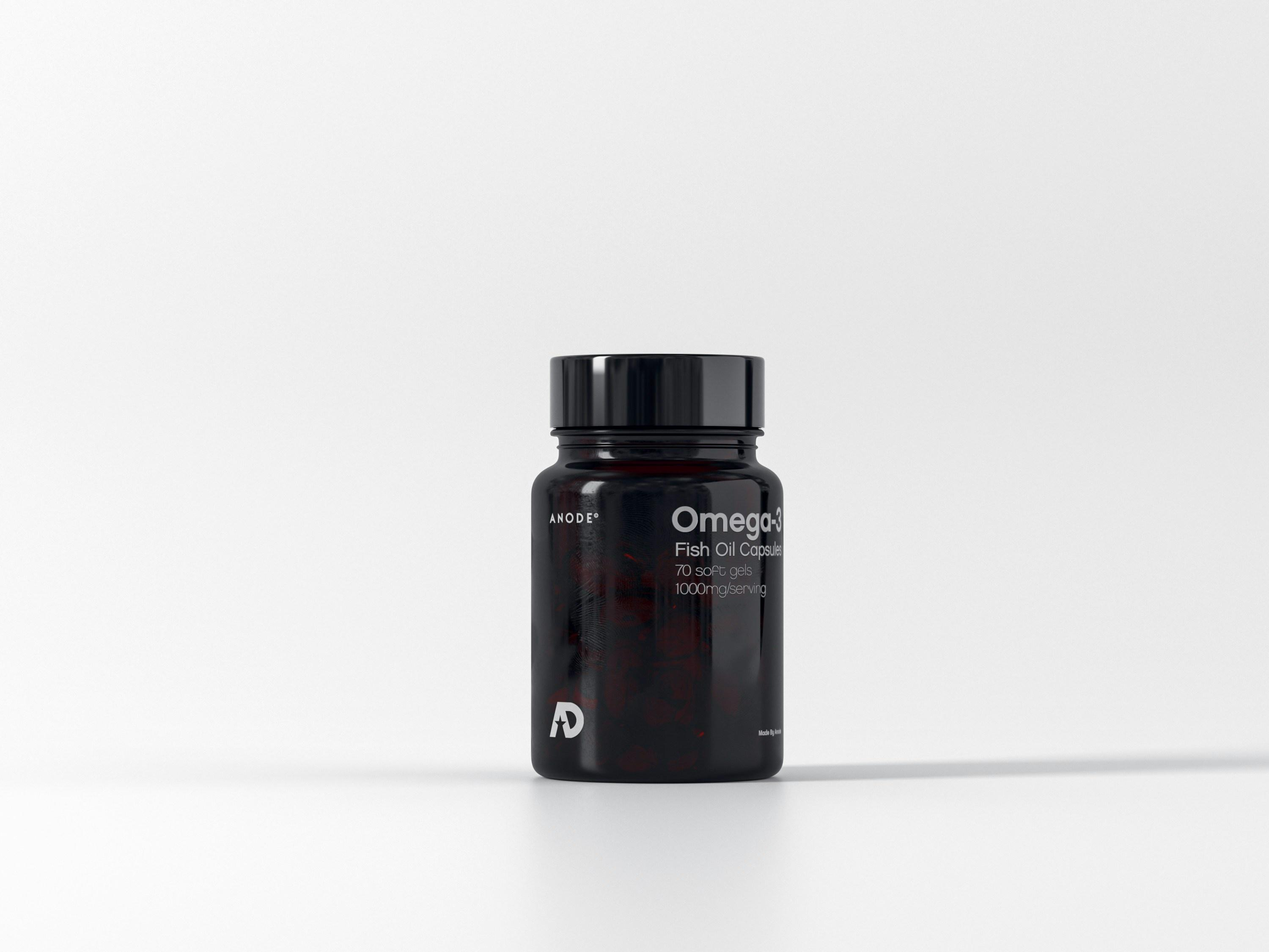Bottle-Detection: (470, 296, 865, 840)
